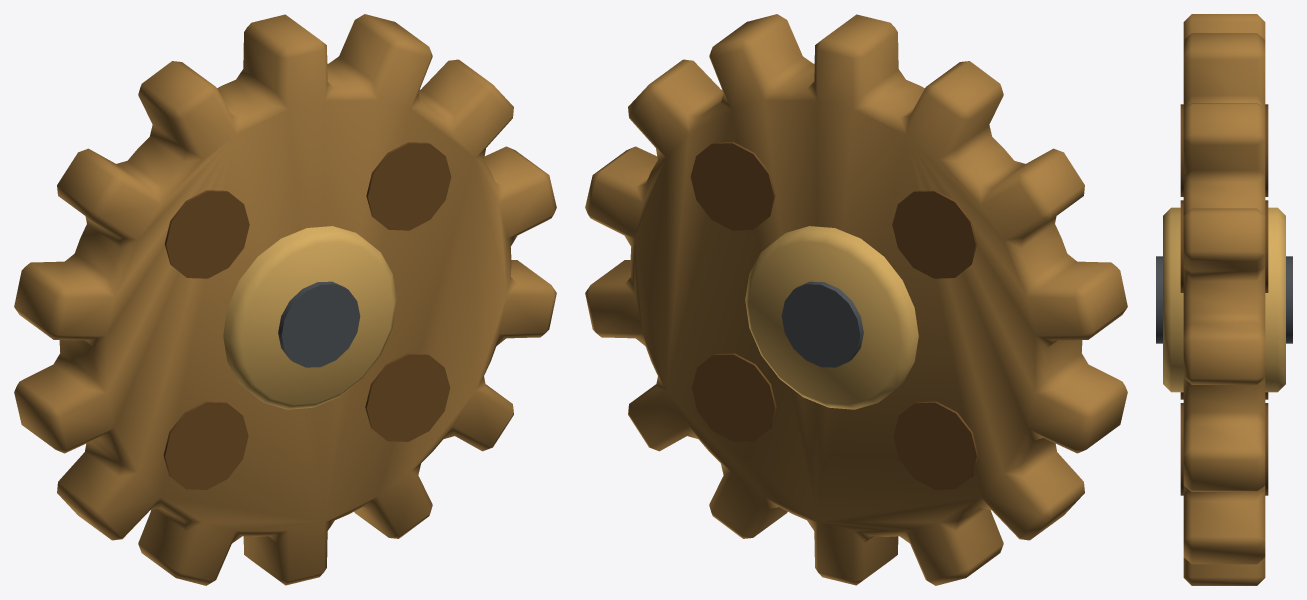
Rendered from part_gear.glb.
3 renders of one model, left to right at view 1: azimuth 30°, elevation 25°; view 2: azimuth 150°, elevation 25°; view 3: azimuth 270°, elevation 25°, orthographic. The views are drawn at different scales.
Visible parts, largest first — view 1: part_gear; view 2: part_gear; view 3: part_gear.
Part boxes in pixels (bbox=[...]): part_gear: bbox=[14, 14, 556, 585]; part_gear: bbox=[585, 14, 1127, 585]; part_gear: bbox=[1156, 14, 1292, 585].
Bounding box in the file's own units: 0.2069 × 0.2091 × 0.05.
